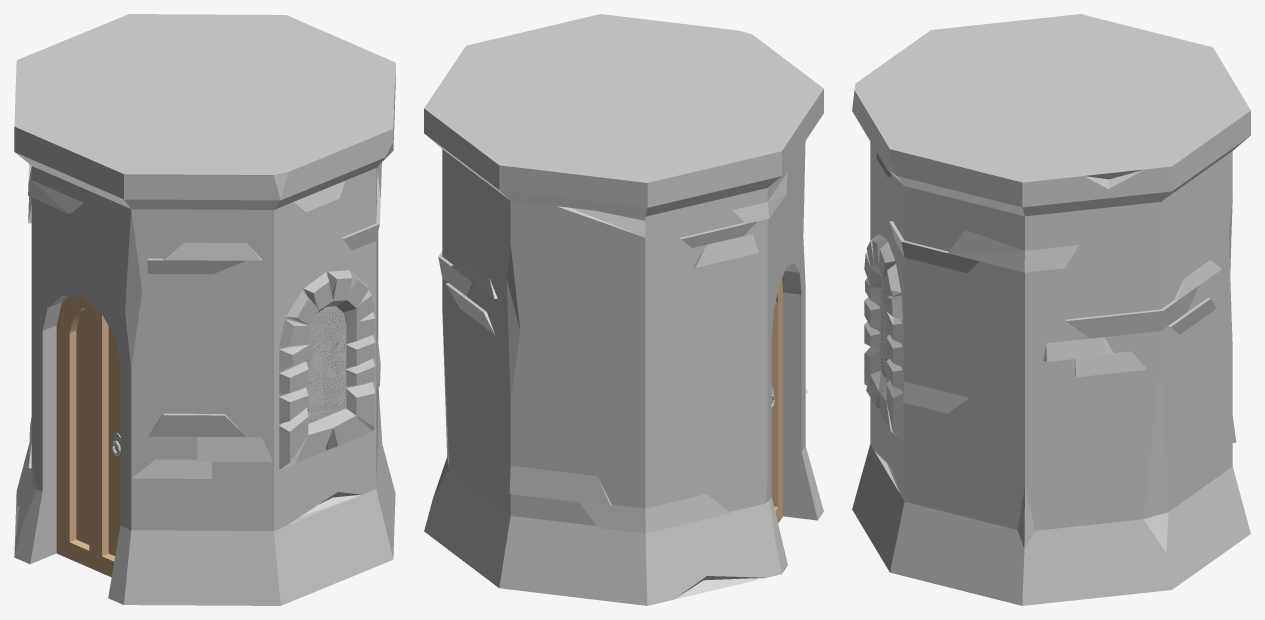
File: Tower_3.fbx
The picture shows the model from 3 angles, left to right: view 1: azimuth 30°, elevation 25°; view 2: azimuth 150°, elevation 25°; view 3: azimuth 270°, elevation 25°; orthographic projection.
Visible parts, largest first — view 1: Mesh4.001; view 2: Mesh4.001; view 3: Mesh4.001.
Part boxes in pixels (left/top/right/bottom): Mesh4.001: left=14, top=14, right=395, bottom=605; Mesh4.001: left=424, top=14, right=823, bottom=605; Mesh4.001: left=852, top=14, right=1250, bottom=605.
Bounding box in the file's own units: 2.18 × 2.55 × 2.18.
